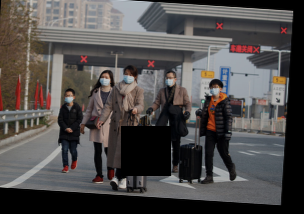with_mask: (98, 74, 112, 86), (123, 70, 135, 83), (63, 92, 75, 104), (164, 74, 175, 86), (210, 83, 220, 95)
